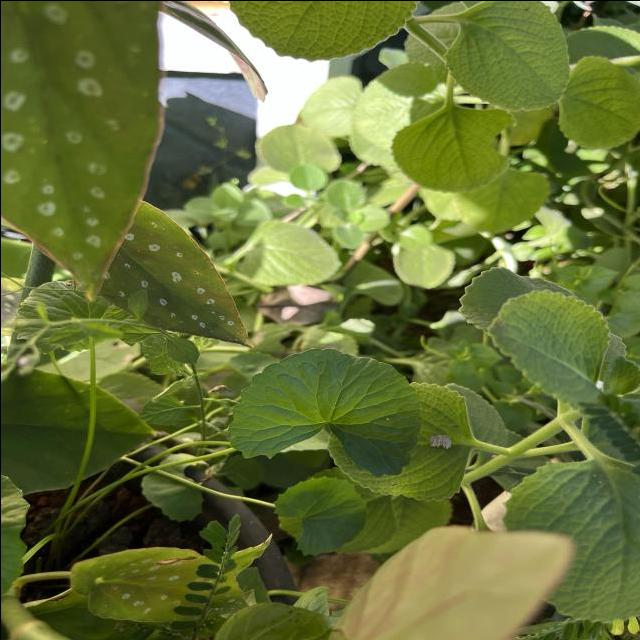Centella asiatica: (222, 343, 424, 479)
